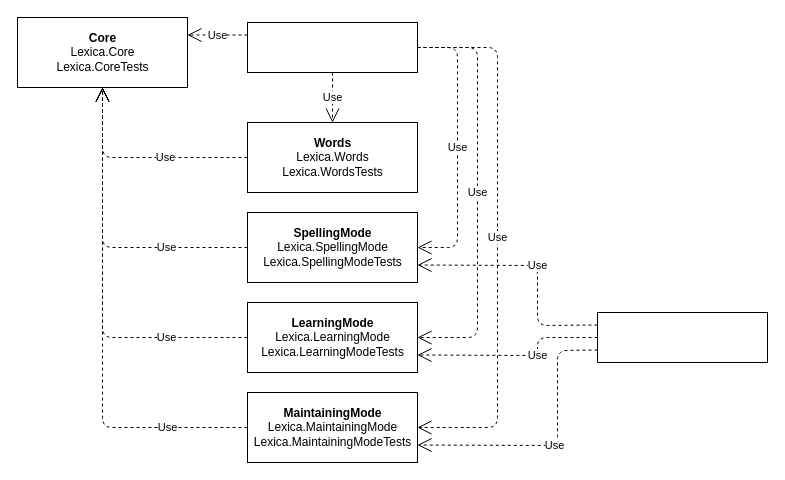
This 785x480 diagram has some shape labels left out. The box of each missing label's shape, as (x1, y1, x2, y2) in pixels:
CLI Lexica.CLI: (596, 312, 768, 362)
Database module Lexica.EF: (246, 22, 418, 72)
